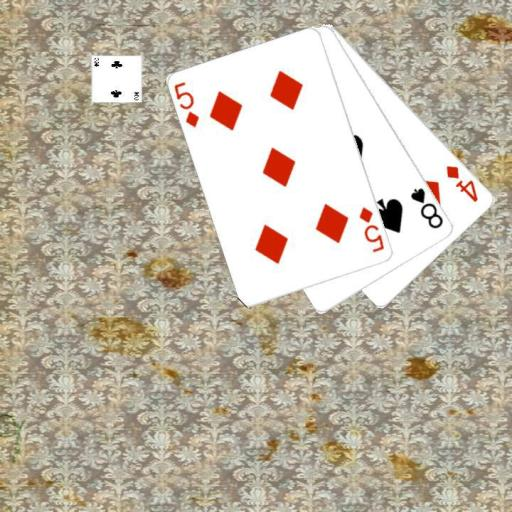4D: (443, 162, 480, 204)
5D: (356, 204, 386, 254), (171, 79, 201, 129)
8S: (408, 185, 445, 231)
